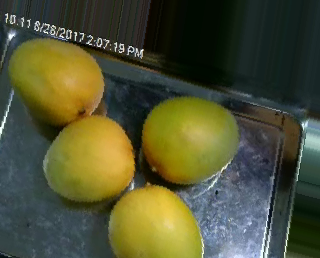Mango: (7, 37, 103, 123), (145, 95, 236, 184), (45, 116, 135, 203), (107, 186, 202, 257)
